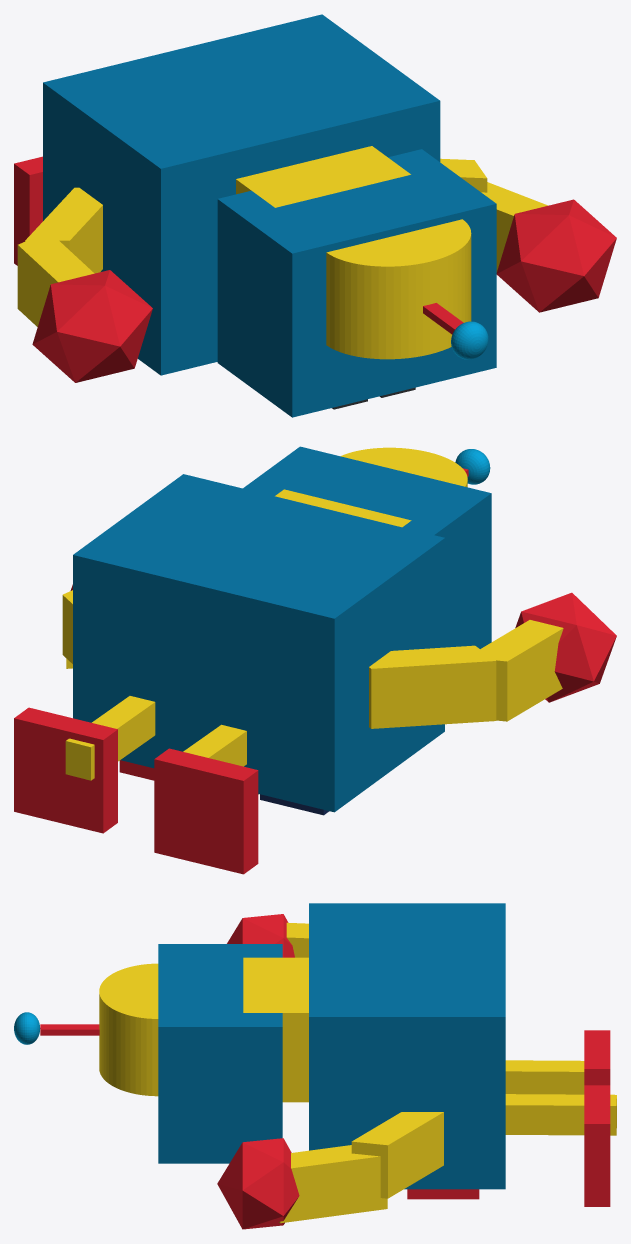
The model's file is tinker.obj.
3 renders of one model, top to bottom at view 1: azimuth 30°, elevation 25°; view 2: azimuth 150°, elevation 25°; view 3: azimuth 270°, elevation 25°, orthographic. The views are drawn at different scales.
Parts seen in each view (by area): view 1: group_0_30377, group_0_16768282, group_0_15277357, group_0_40919; view 2: group_0_30377, group_0_15277357, group_0_16768282, group_0_40919; view 3: group_0_30377, group_0_16768282, group_0_15277357, group_0_40919.
Part boxes in pixels (x1,y1,x2,y2): group_0_30377: [43, 14, 496, 417]; group_0_16768282: [17, 146, 547, 359]; group_0_15277357: [14, 156, 616, 382]; group_0_40919: [451, 321, 488, 359]; group_0_30377: [73, 446, 491, 812]; group_0_15277357: [14, 468, 616, 874]; group_0_16768282: [62, 447, 563, 780]; group_0_40919: [455, 449, 490, 484]; group_0_30377: [158, 903, 505, 1189]; group_0_16768282: [99, 922, 616, 1223]; group_0_15277357: [40, 914, 610, 1229]; group_0_40919: [14, 1012, 40, 1044].
Size of the model in its own units: 82.18 by 33 by 92.
